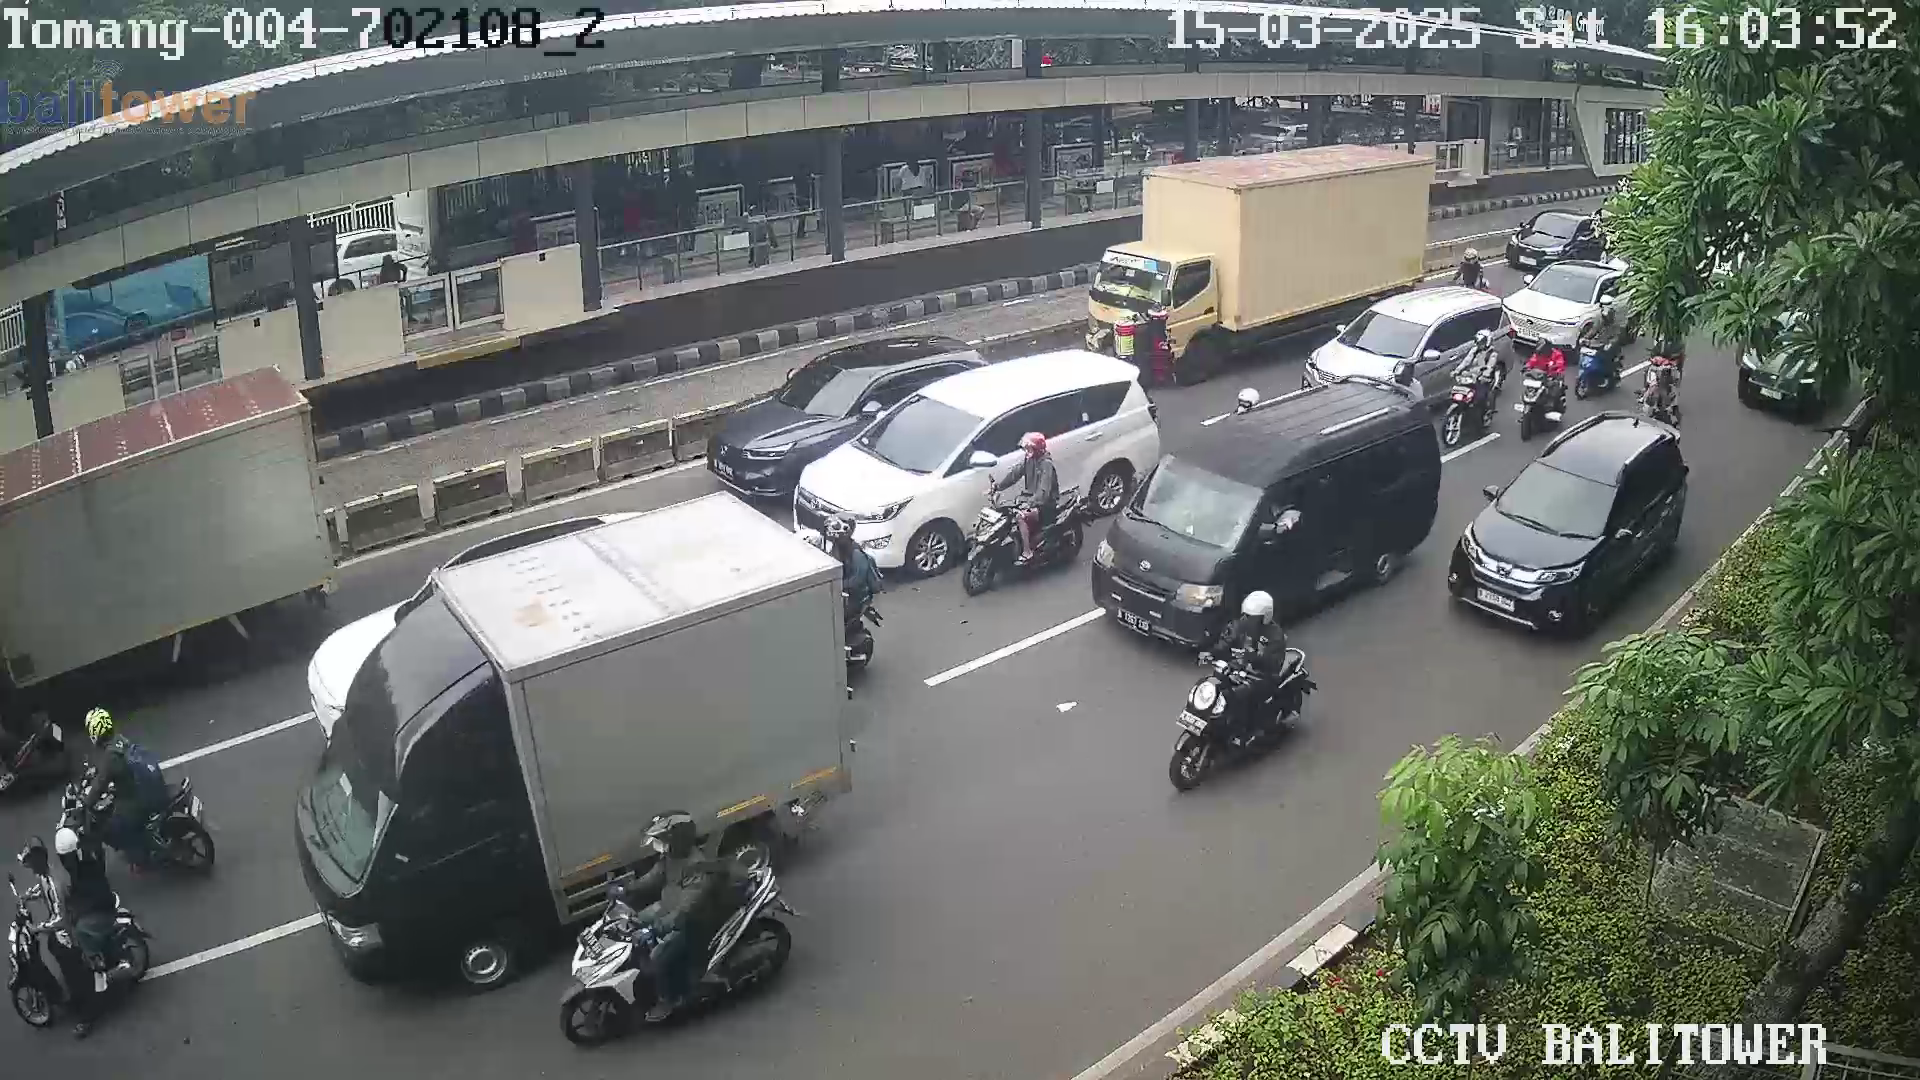half-face helmet: (1237, 578, 1294, 645), (639, 810, 714, 861), (72, 696, 123, 745), (1017, 429, 1063, 475), (827, 506, 859, 551), (1233, 378, 1263, 420)
